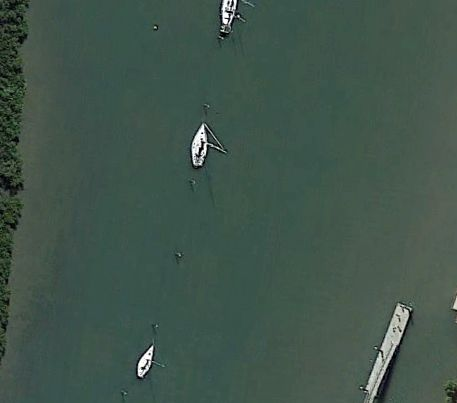boat: (190, 122, 215, 170), (135, 341, 156, 380)
